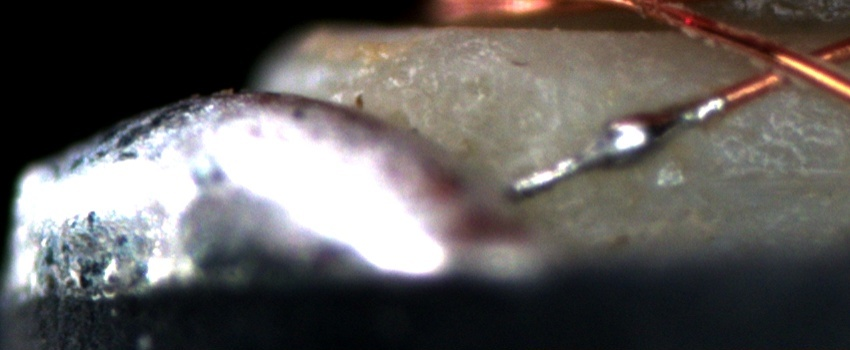CL: (729, 34, 850, 94)
DL: (638, 148, 850, 201)
TB: (598, 103, 680, 171)
TS: (504, 94, 726, 202)
TTCW: (498, 72, 763, 198)
